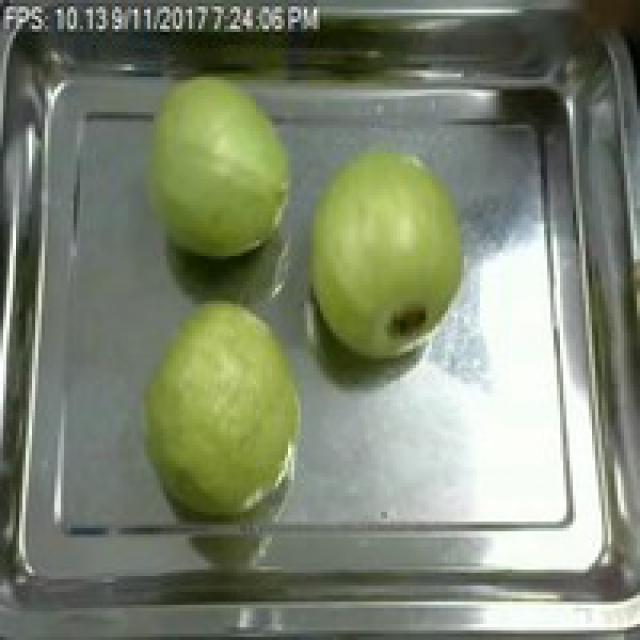Fruit: (294, 138, 477, 371), (138, 294, 316, 522), (134, 67, 304, 269)
